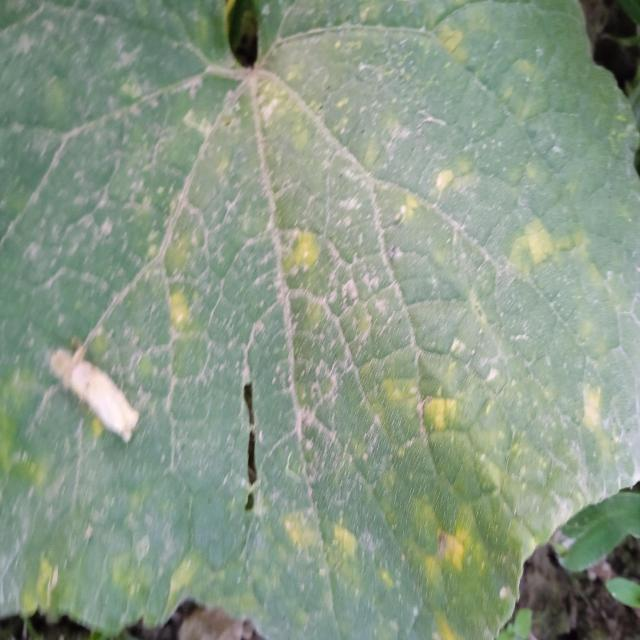cucumber_downy: (168, 68, 640, 640)
